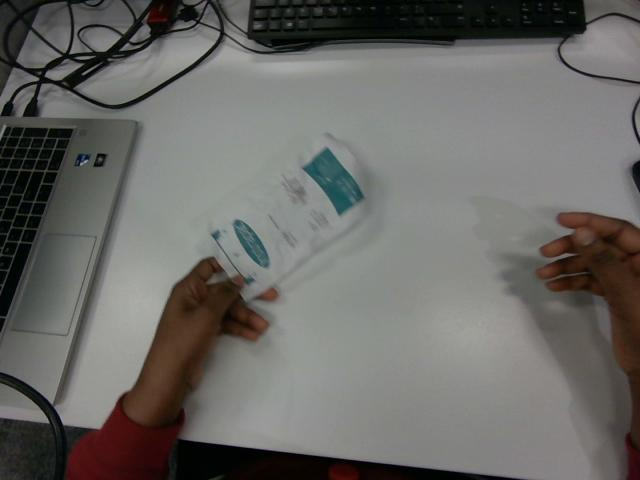gallipot: (210, 134, 364, 299)
